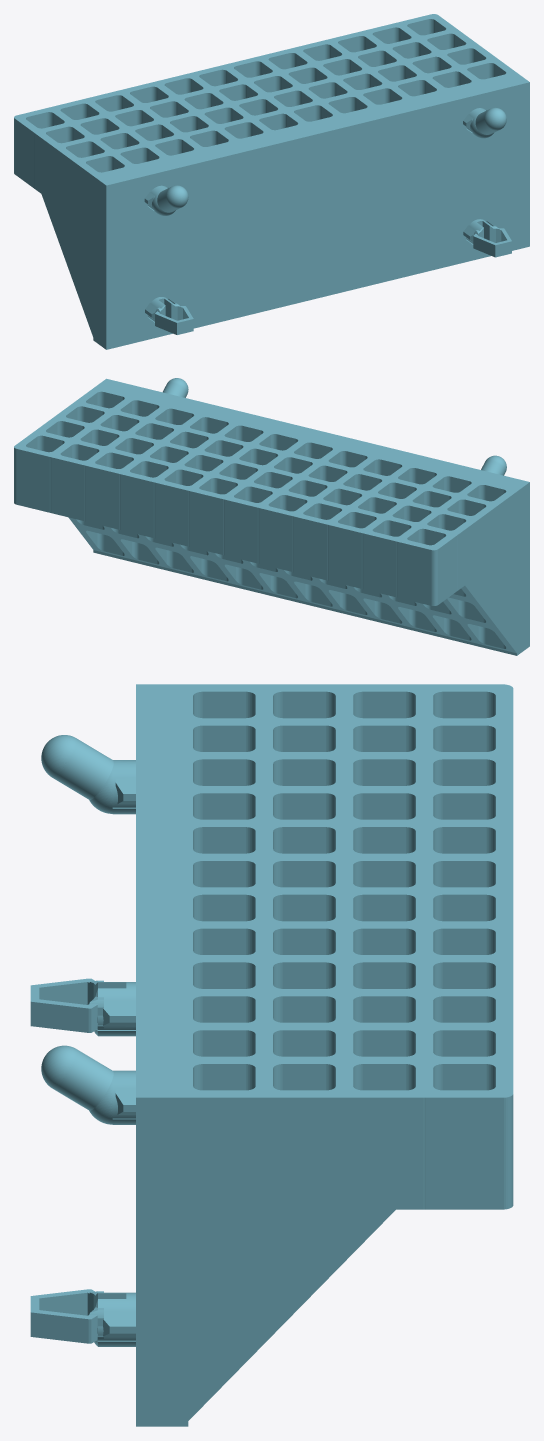
Rendered from part-p01-48__current-mounts-flat-top-v2__fit-pf02c9-hoop5__installed.glb.
The picture shows the model from 3 angles, top to bottom: view 1: azimuth 30°, elevation 25°; view 2: azimuth 150°, elevation 25°; view 3: azimuth 270°, elevation 25°; orthographic projection. The views are drawn at different scales.
Visible parts, largest first — view 1: installed.stl; view 2: installed.stl; view 3: installed.stl.
Boxes of the visible parts, box(x1,y1,x2,y2) form: installed.stl: box(14, 14, 529, 349); installed.stl: box(14, 378, 529, 655); installed.stl: box(30, 684, 513, 1426).
Bounding box in the file's own units: 0.1014 × 0.0376 × 0.05.
